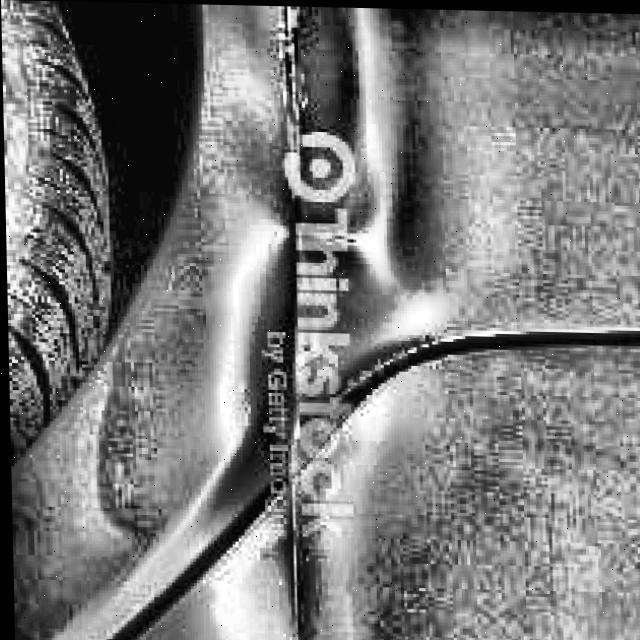door_dent: (216, 5, 411, 640)
